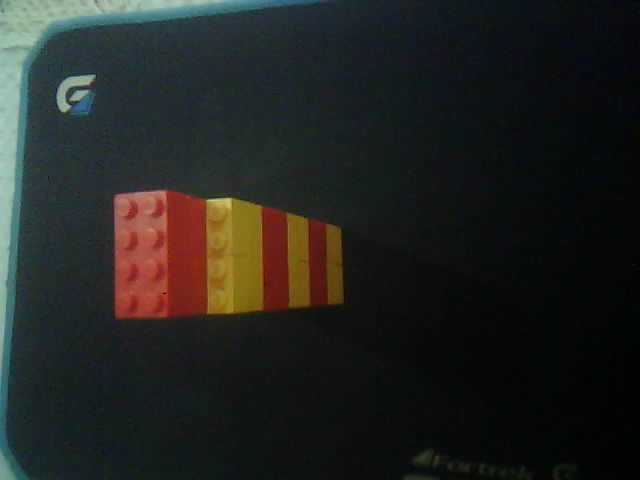lego: (111, 189, 344, 321)
